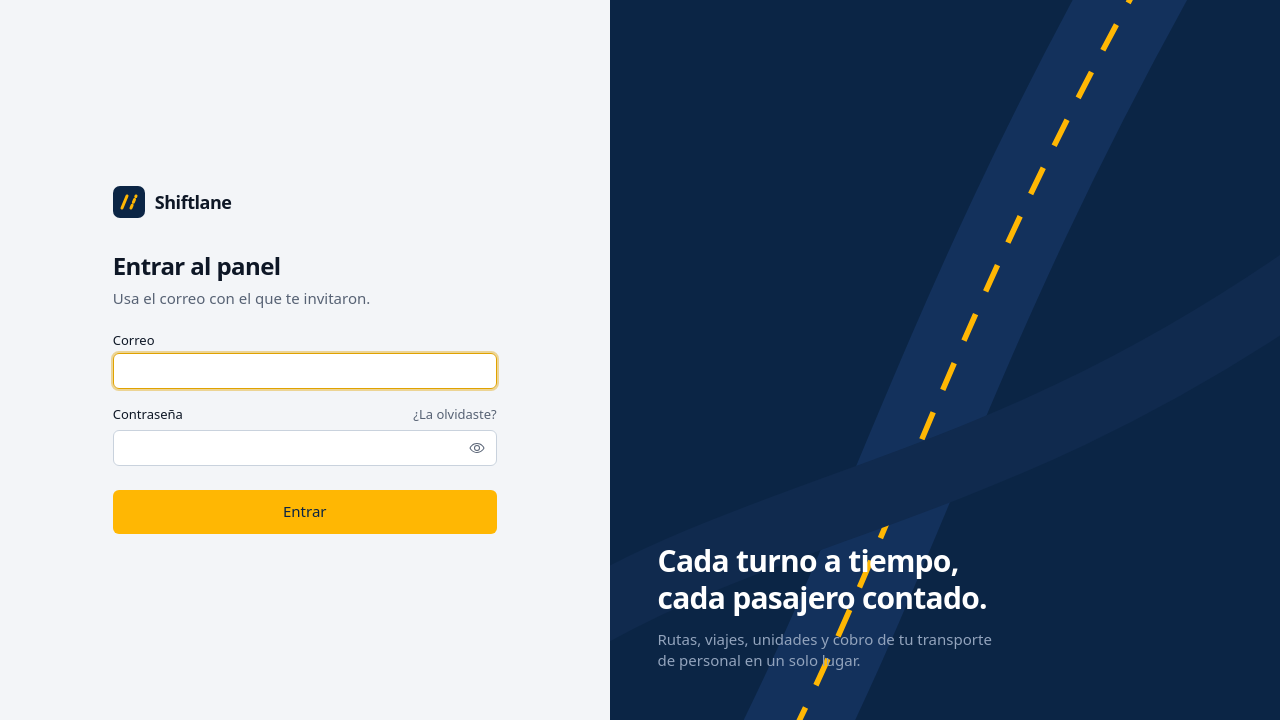
Test: acceso al panel › verificación en dos pasos
This screenshot has width=1280, height=720.
Type "ana@transportes.mx" into the field labelled "Correo" at x=305, y=371, box [113,353,497,389]
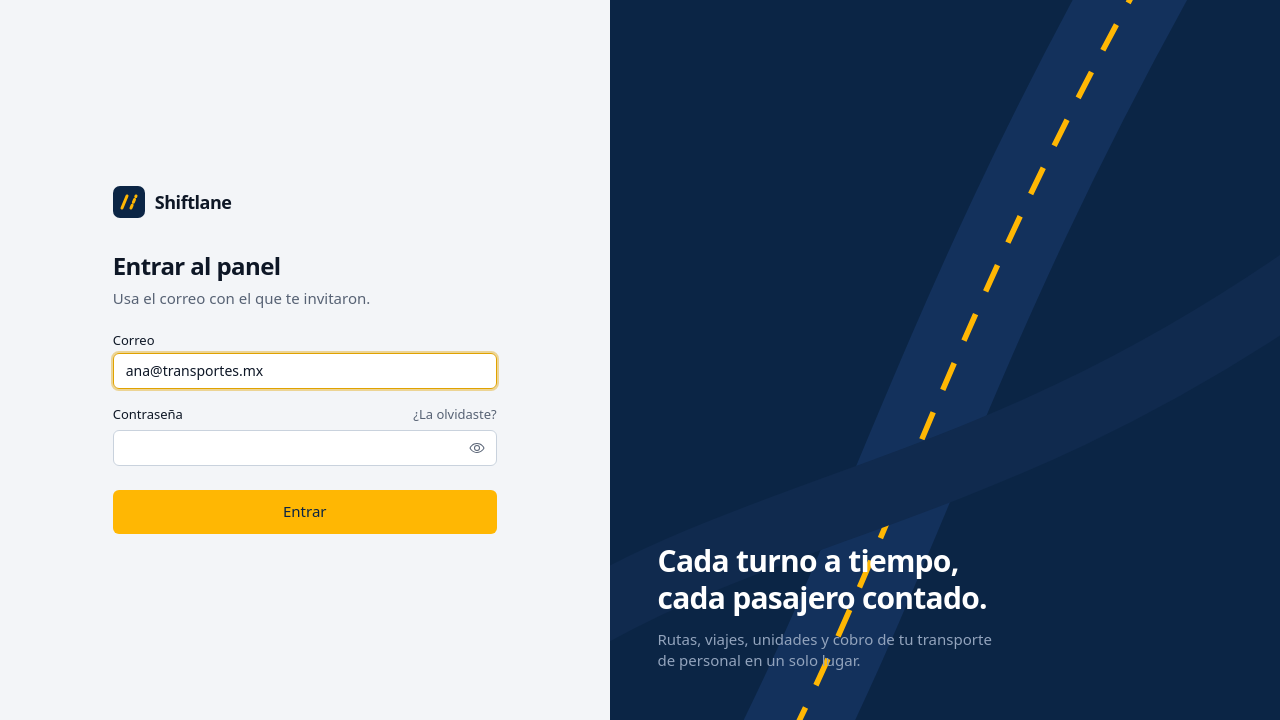
Type "Secreta-123456" into the password field labelled "Contraseña" at x=305, y=448, box [113,430,497,466]
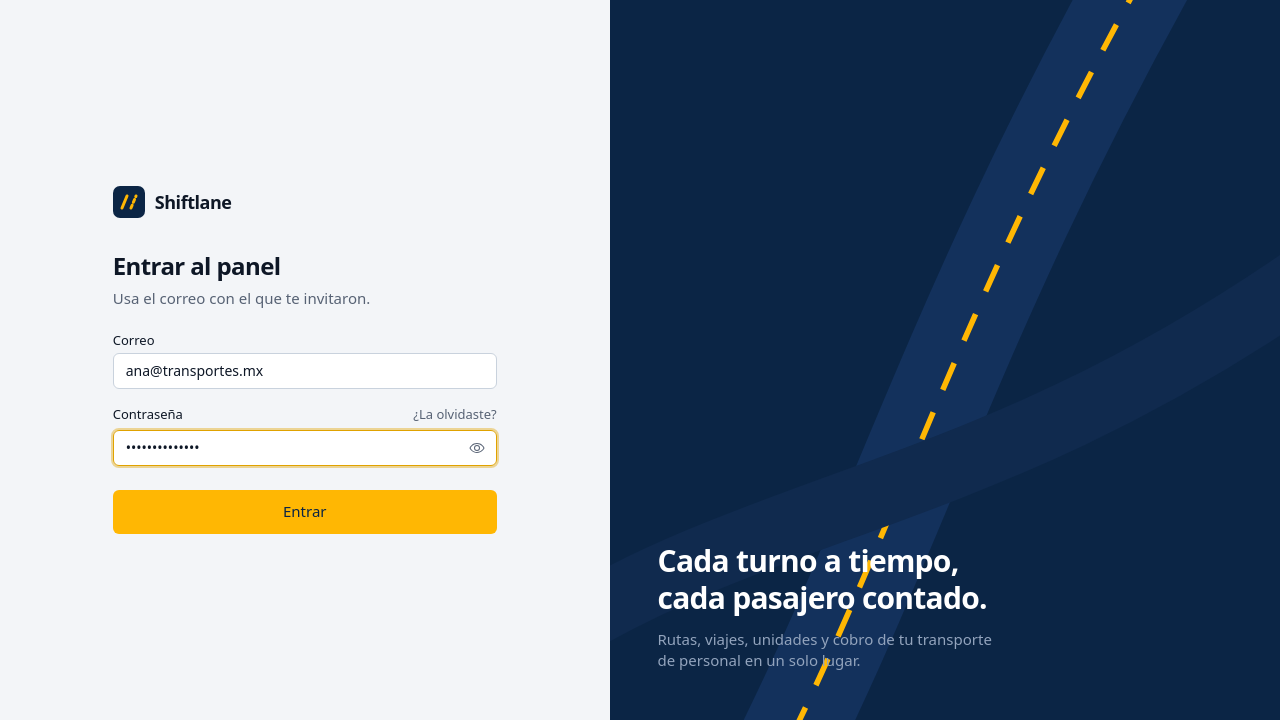
Click the button "Entrar" at x=305, y=512, box [113,490,497,534]
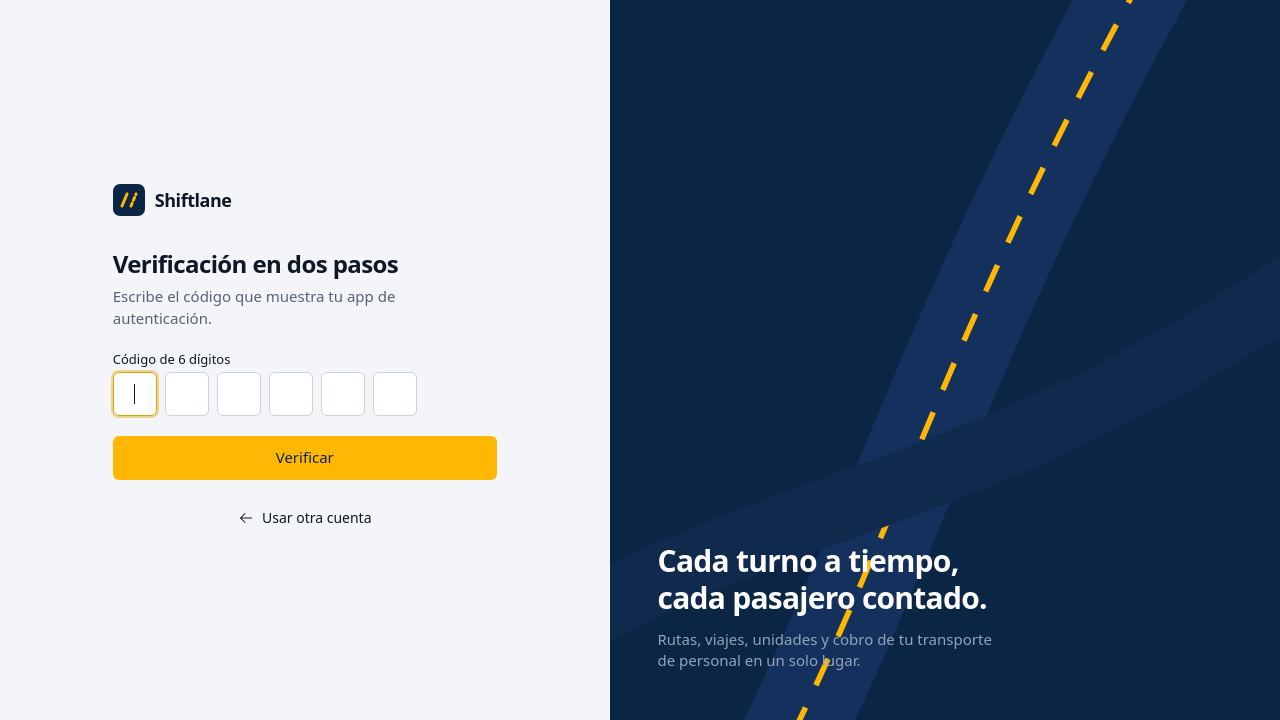
Check: the heading "Verificación en dos pasos" is shown, box [113,247,398,280]
Type keys "654321"
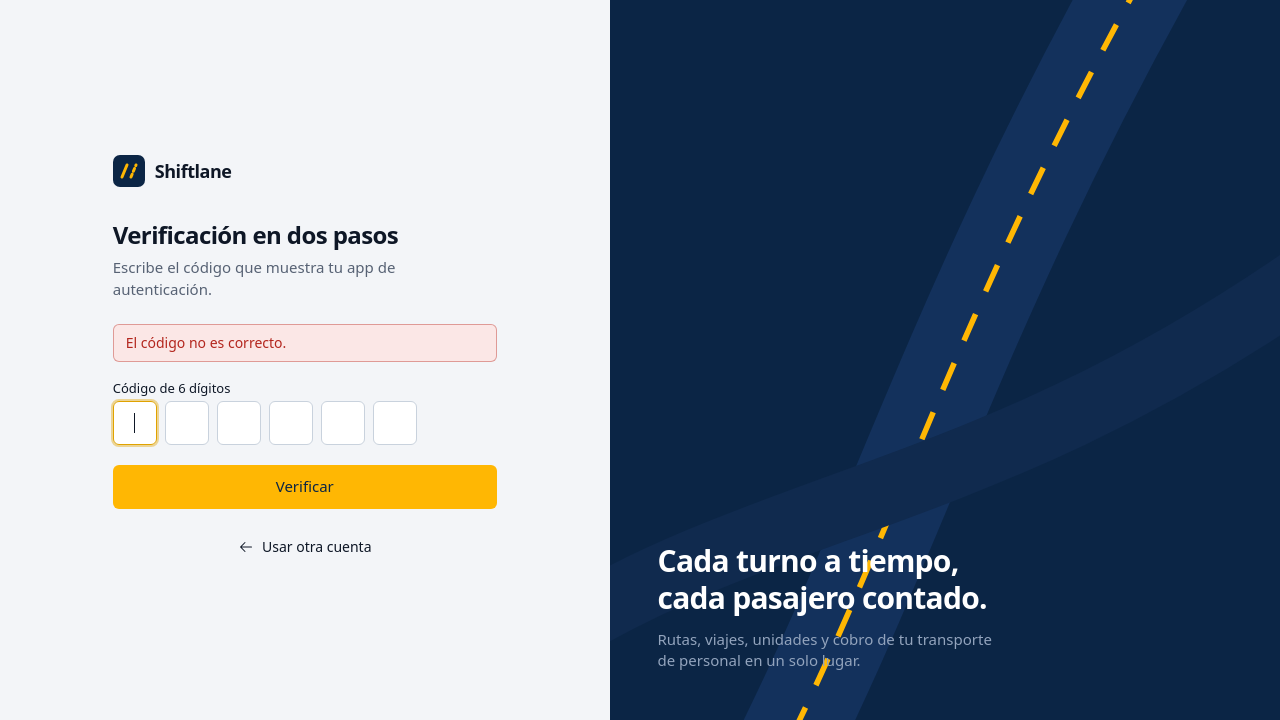
Check: the text "El código no es correcto." is shown, box [113,324,497,362]
Type keys "123456"
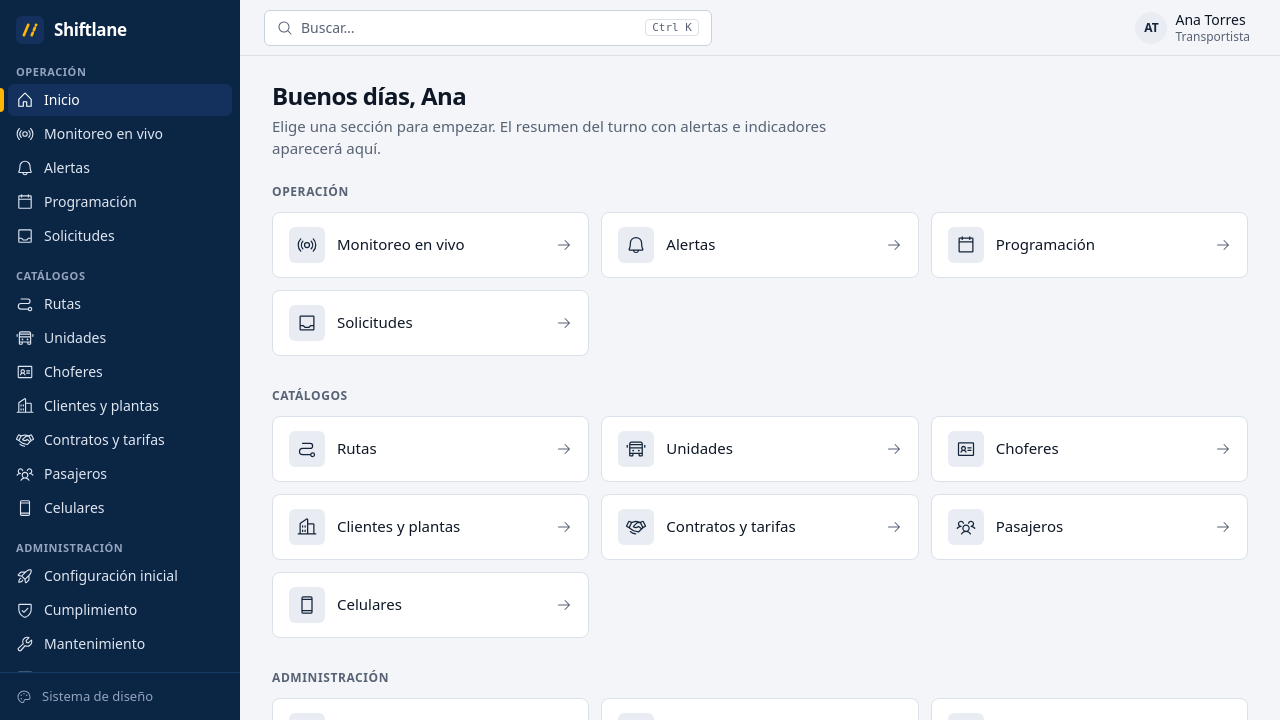
Check: the heading "Buenos días, Ana" is shown, box [272,79,466,112]
